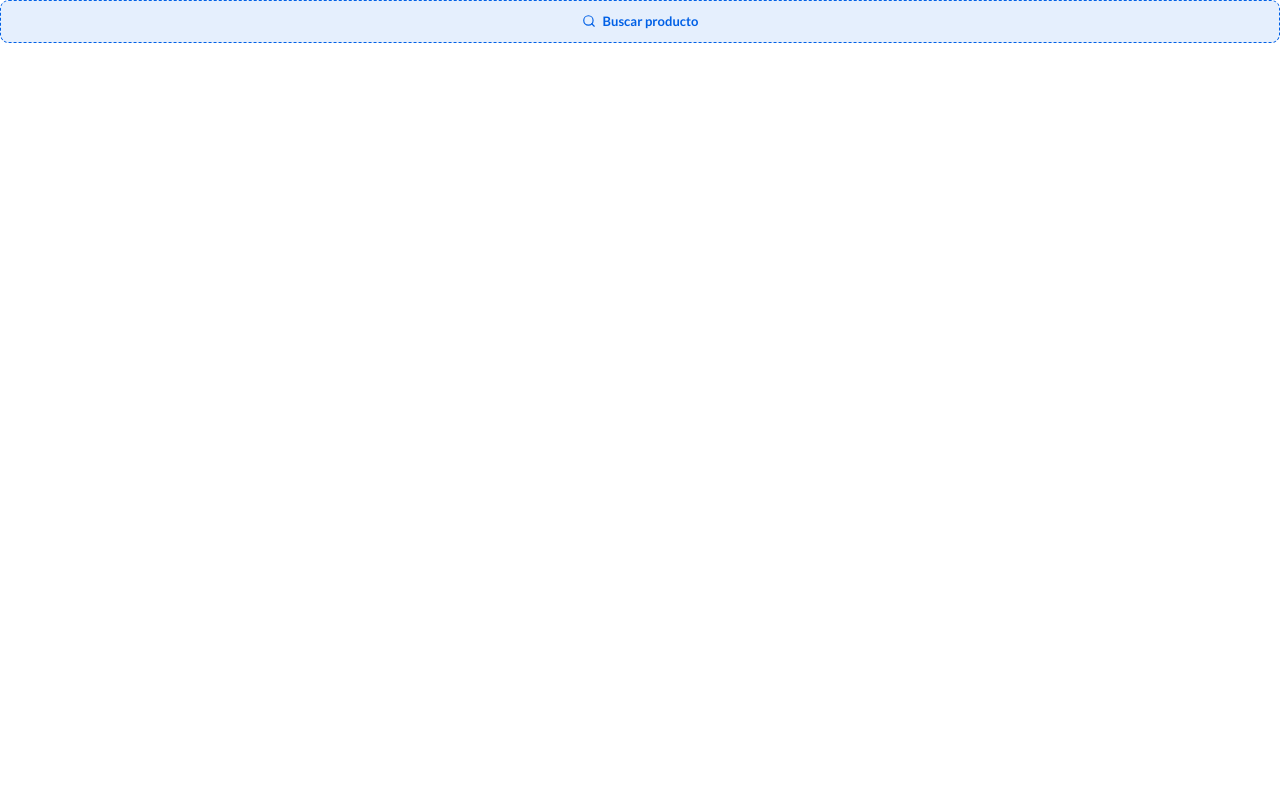
Scenario: BuscadorProductoMovil (D-038) › muestra la existencia en verde si hay y en rojo si no
Click the button "Buscar producto". click: x=640, y=21
box: left=0, top=0, right=1279, bottom=42
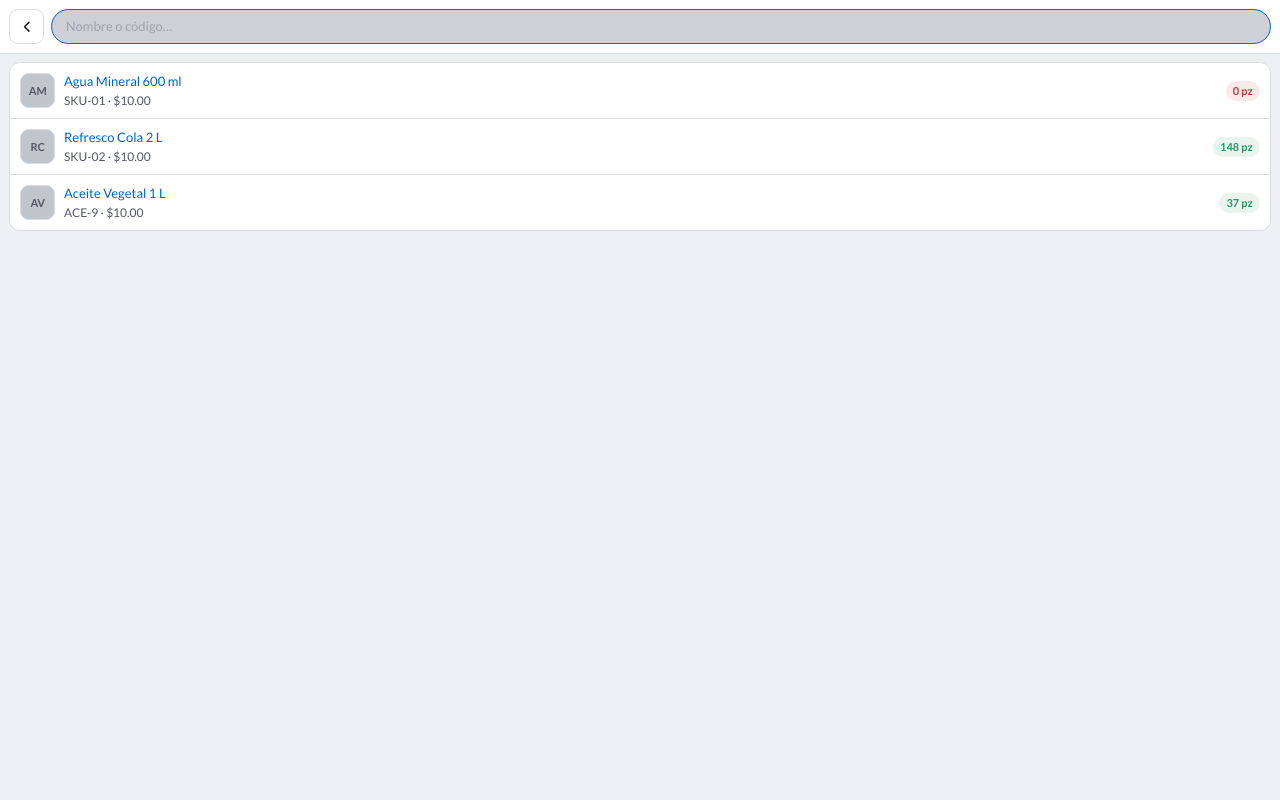
Now the text "148 pz" is shown, box left=1213, top=137, right=1260, bottom=157
